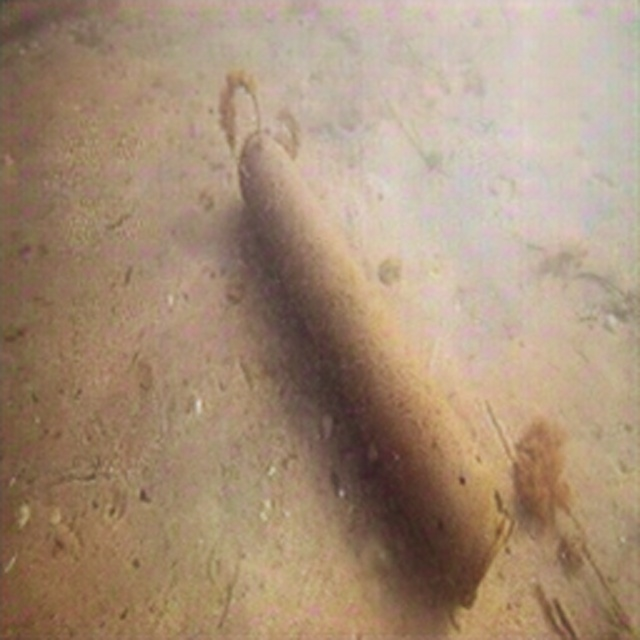mine: (238, 126, 513, 610)
